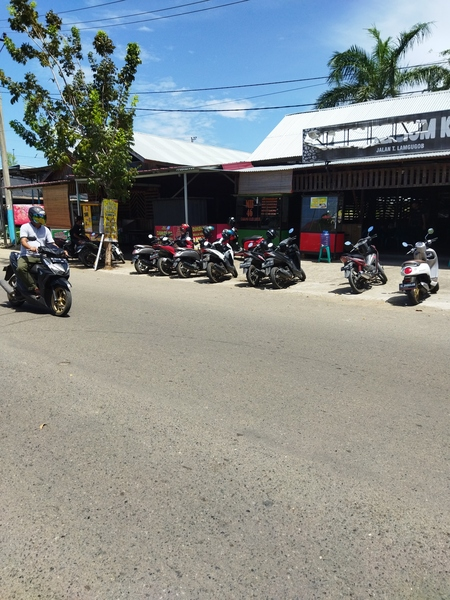motorcycle: (1, 234, 79, 318), (396, 226, 442, 308), (340, 225, 389, 297), (262, 236, 308, 288), (201, 233, 238, 285), (241, 240, 275, 287)
